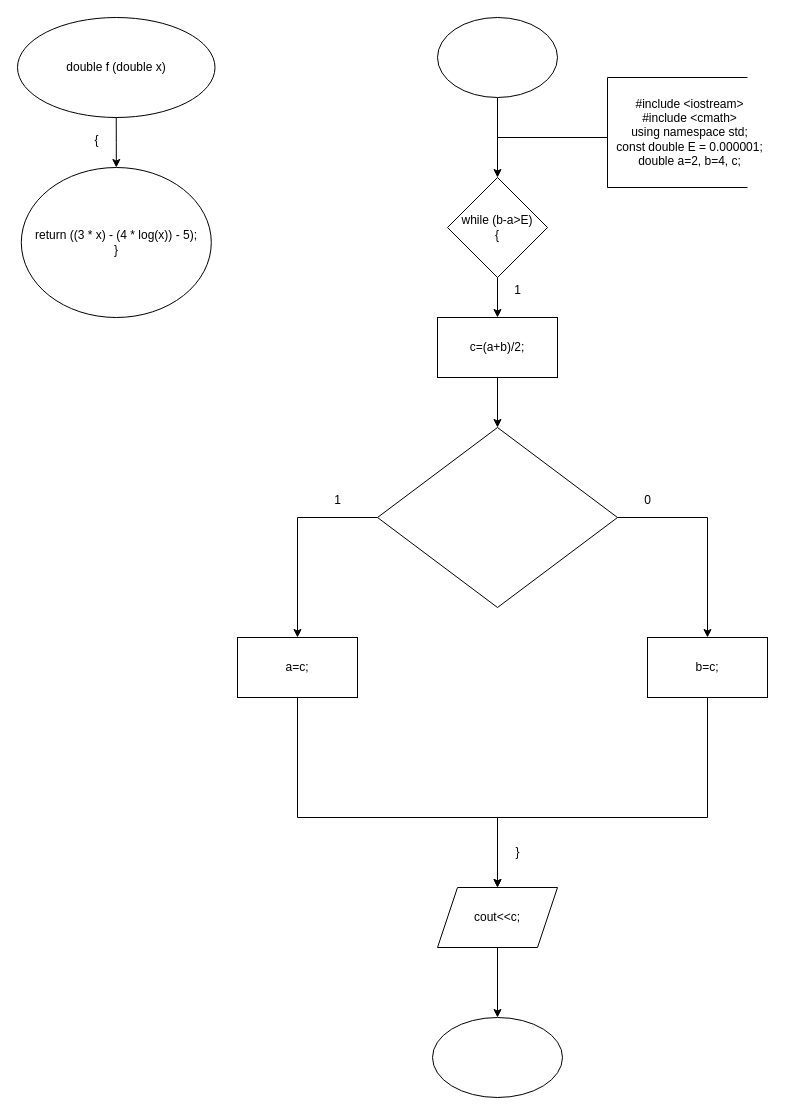
Some shapes in this 792 by 1115 pixel diagram are drawn without their labels. Here are the shapes that lost their labels. From the top down, the box of each, then its label:
(436, 16, 558, 98): int main() {
(376, 426, 618, 608): if(f(b)*f(с)<0)
(432, 1016, 562, 1098): return 0; }
